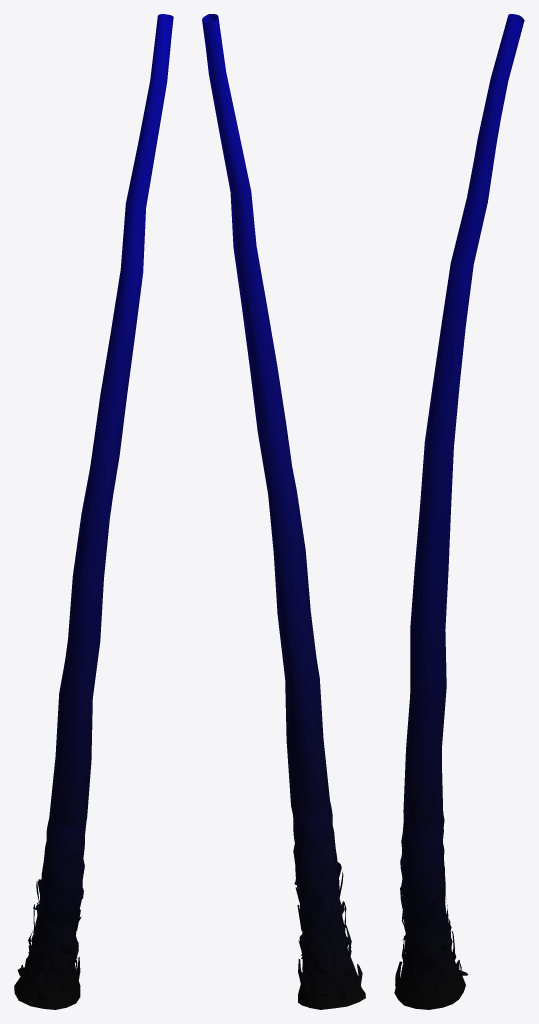
File: tree3.obj
3 renders of one model, left to right at view 1: azimuth 30°, elevation 25°; view 2: azimuth 210°, elevation 25°; view 3: azimuth 330°, elevation 25°, orthographic. The views are drawn at different scales.
Visible parts, largest first — view 1: Palm_Tree_M_01_T.005; view 2: Palm_Tree_M_01_T.005; view 3: Palm_Tree_M_01_T.005.
Part boxes in pixels (x1,y1,x2,y2): Palm_Tree_M_01_T.005: (14,14,173,1009); Palm_Tree_M_01_T.005: (202,14,365,1009); Palm_Tree_M_01_T.005: (394,14,524,1009).
Bounding box in the file's own units: 1.8 × 12.16 × 1.1.
